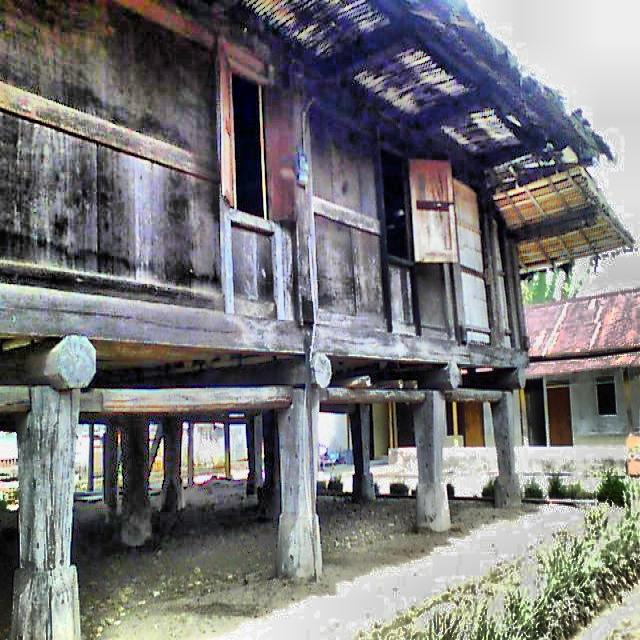column: (10, 386, 81, 638), (278, 389, 322, 577), (413, 391, 450, 531), (121, 423, 151, 545), (491, 394, 520, 507), (161, 423, 184, 510), (352, 406, 372, 500), (247, 416, 264, 493), (188, 422, 194, 484), (225, 423, 230, 475)
roof: (206, 1, 635, 277)
wall: (0, 0, 510, 348)
window: (220, 57, 296, 223), (381, 150, 459, 262)
